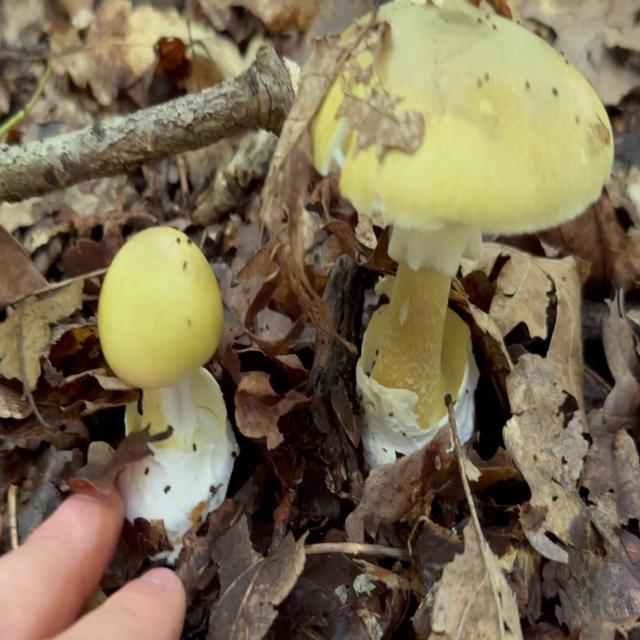death-cap: (307, 0, 615, 470), (97, 227, 240, 526)
